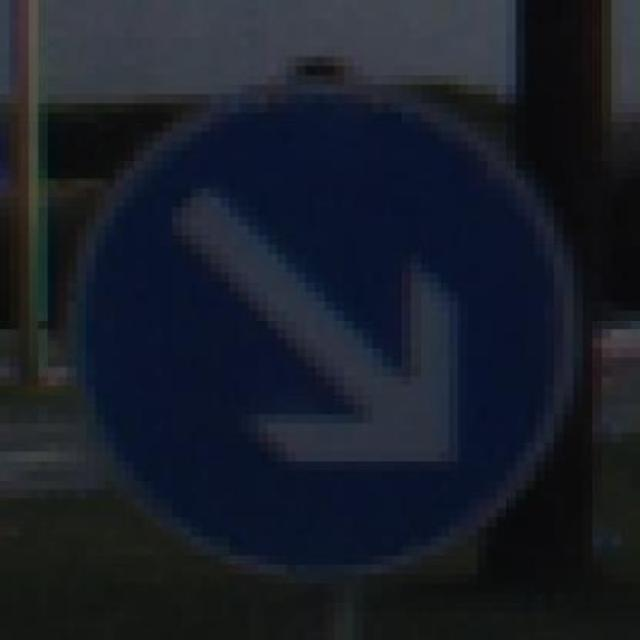Keep-Right: (48, 56, 602, 602)
